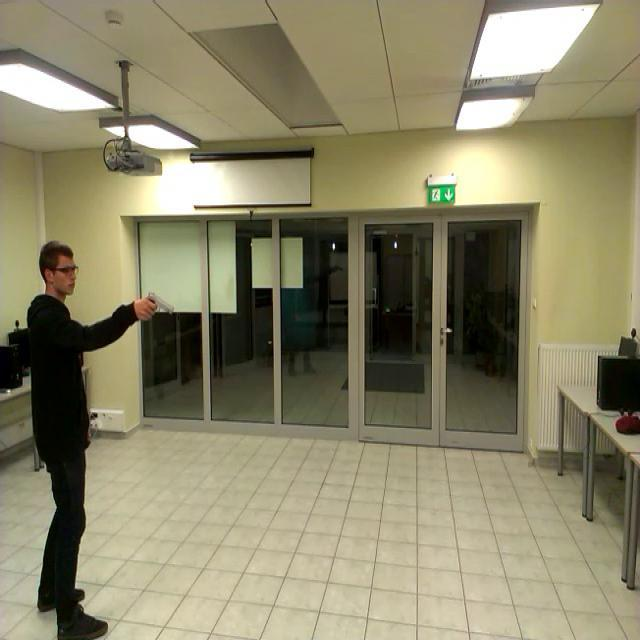Gun: (143, 290, 173, 318)
